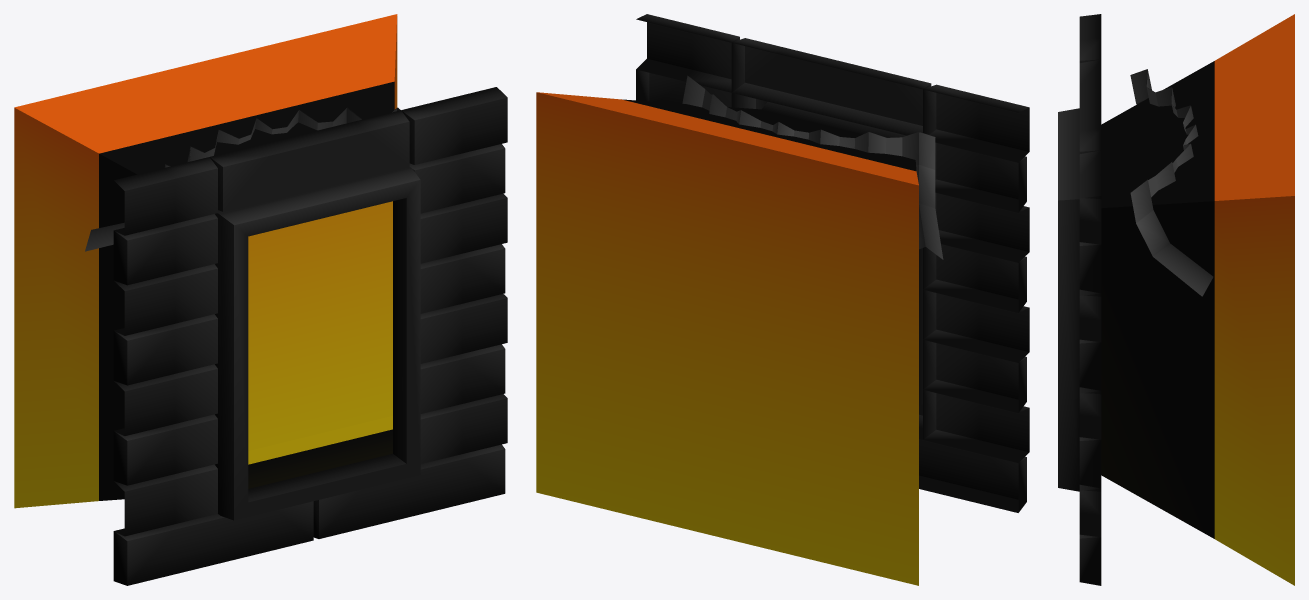
File: window_on_vis.fbx
3 views of the same model, side by side, from view 1: azimuth 30°, elevation 25°; view 2: azimuth 150°, elevation 25°; view 3: azimuth 270°, elevation 25° (orthographic). The views are drawn at different scales.
Parts seen in each view (by area): view 1: Window on vis mesh; view 2: Window on vis mesh; view 3: Window on vis mesh.
Boxes of the visible parts, x1=… form: Window on vis mesh: x1=14, y1=14, x2=507, y2=585; Window on vis mesh: x1=536, y1=14, x2=1029, y2=585; Window on vis mesh: x1=1058, y1=14, x2=1294, y2=585.
Size of the model in its own units: 200 by 200 by 110.
